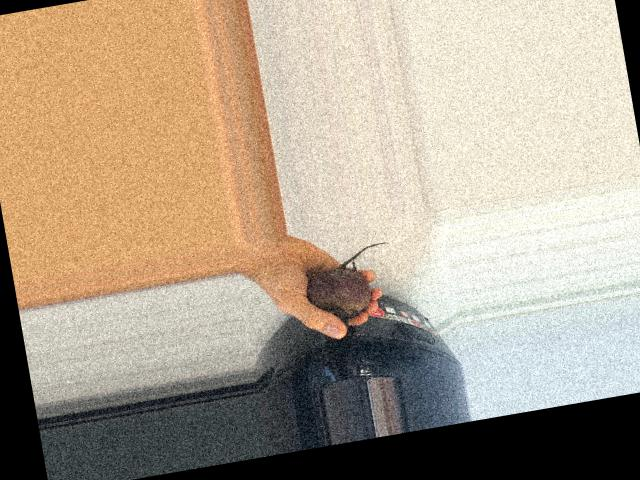beet: (301, 241, 401, 331)
